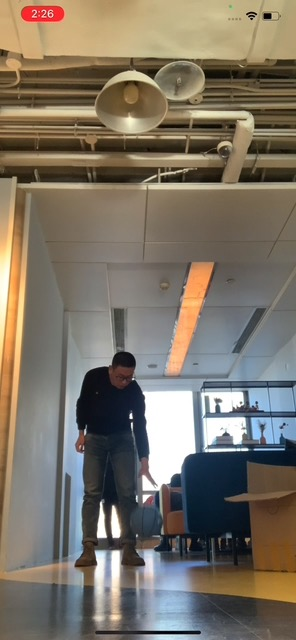ball: (131, 504, 162, 538)
